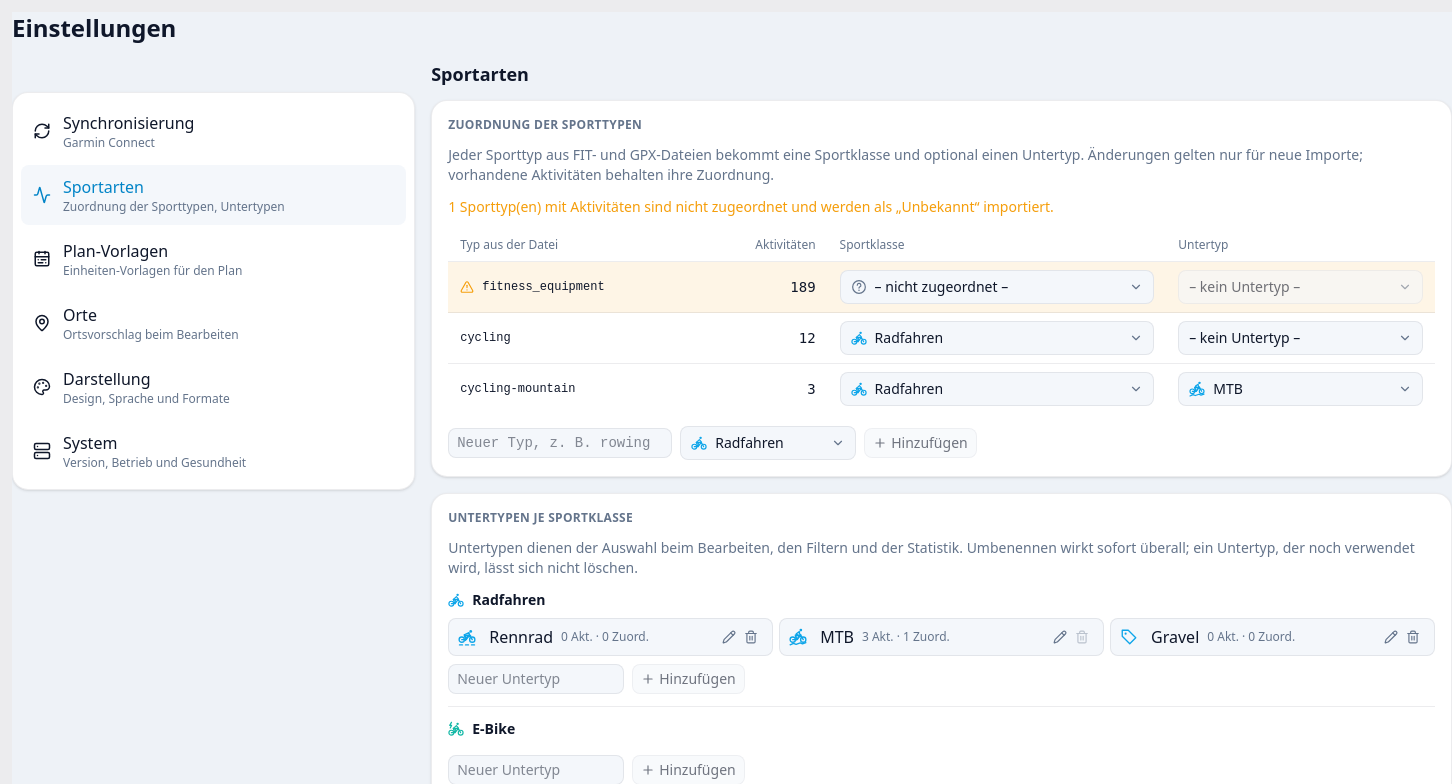
Scenario: Einstellungen → Sportarten › Katalog: anlegen, umbenennen, Löschen gesperrt bei Verwendung
Expected: the text "Rennrad" is shown, [489,625,553,649]
Expected: the text "Gravel" is shown, [1151,625,1199,649]
Type " Bahn " into the field named "Neuer Untertyp für Radfahren" at (536, 679), box [448,664,624,694]
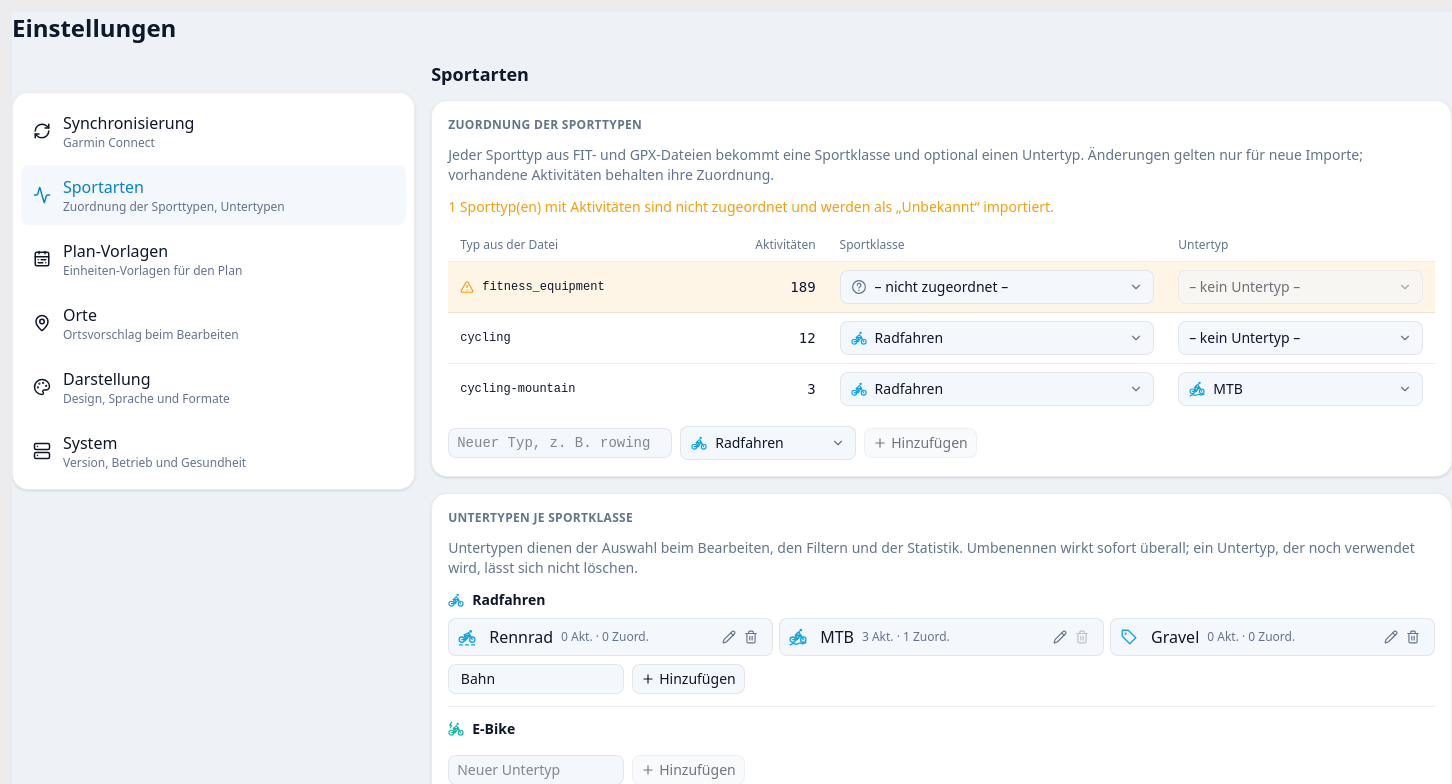
Click the button "Hinzufügen" below "Rennrad" at (688, 679), box [632,664,745,694]
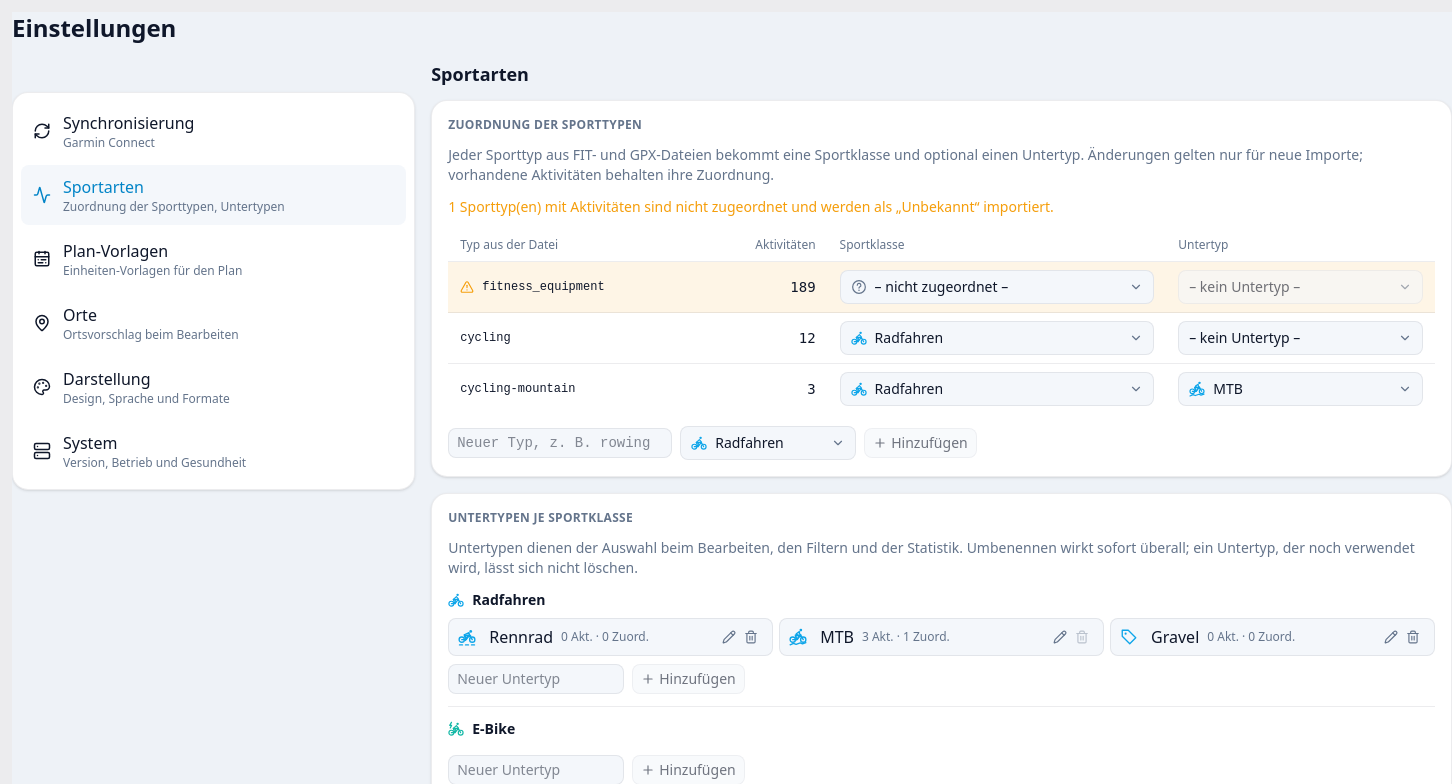
Click the button named "MTB umbenennen" at (1060, 637), box [1049,626,1071,648]
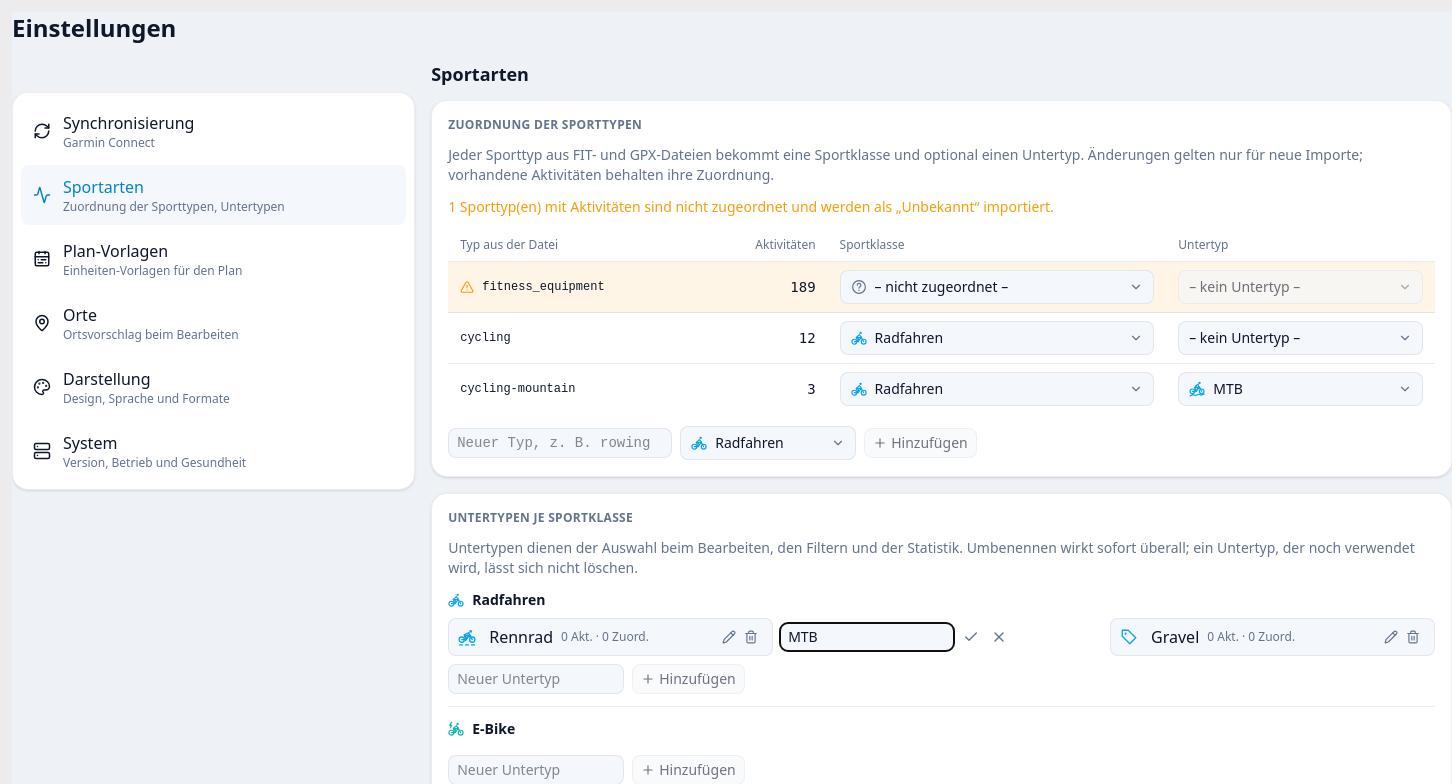
Now the field named "Neuer Name" holds "MTB"
Replace the text in the field named "Neuer Name" with "Mountainbike" at (867, 637), box [779,622,955,652]
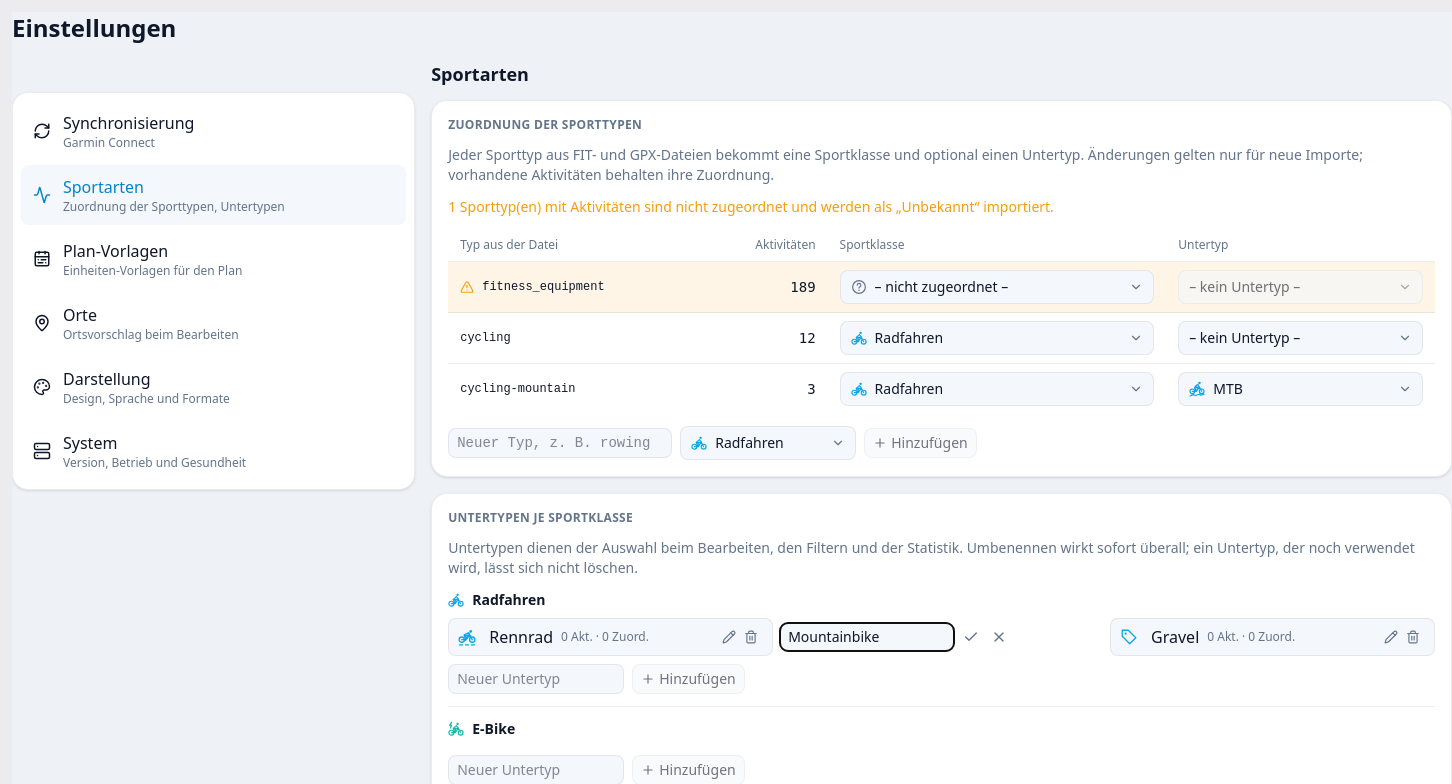
Click the button named "Speichern" at (971, 637), box [959,625,983,649]
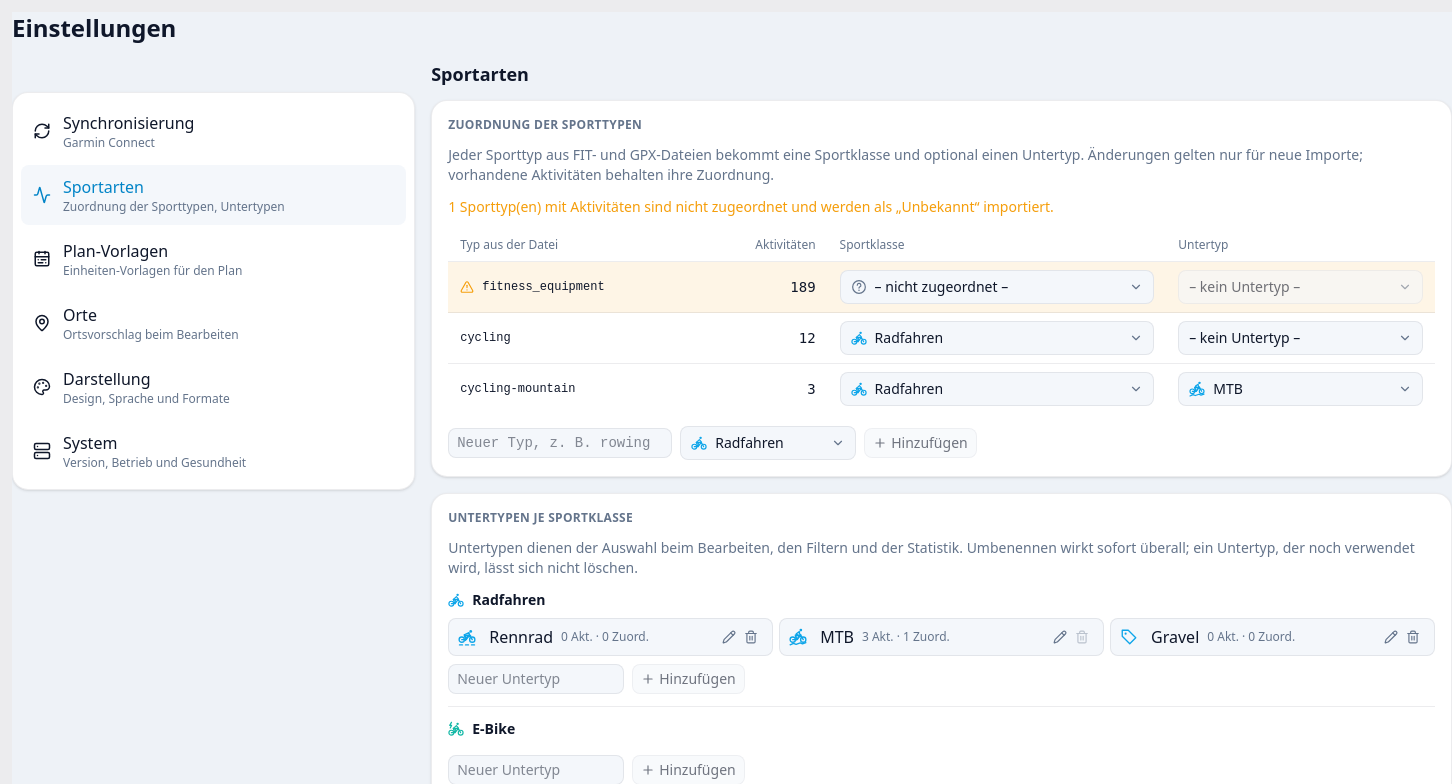
Click the button named "Gravel löschen" at (1413, 637), box [1402,626,1424,648]
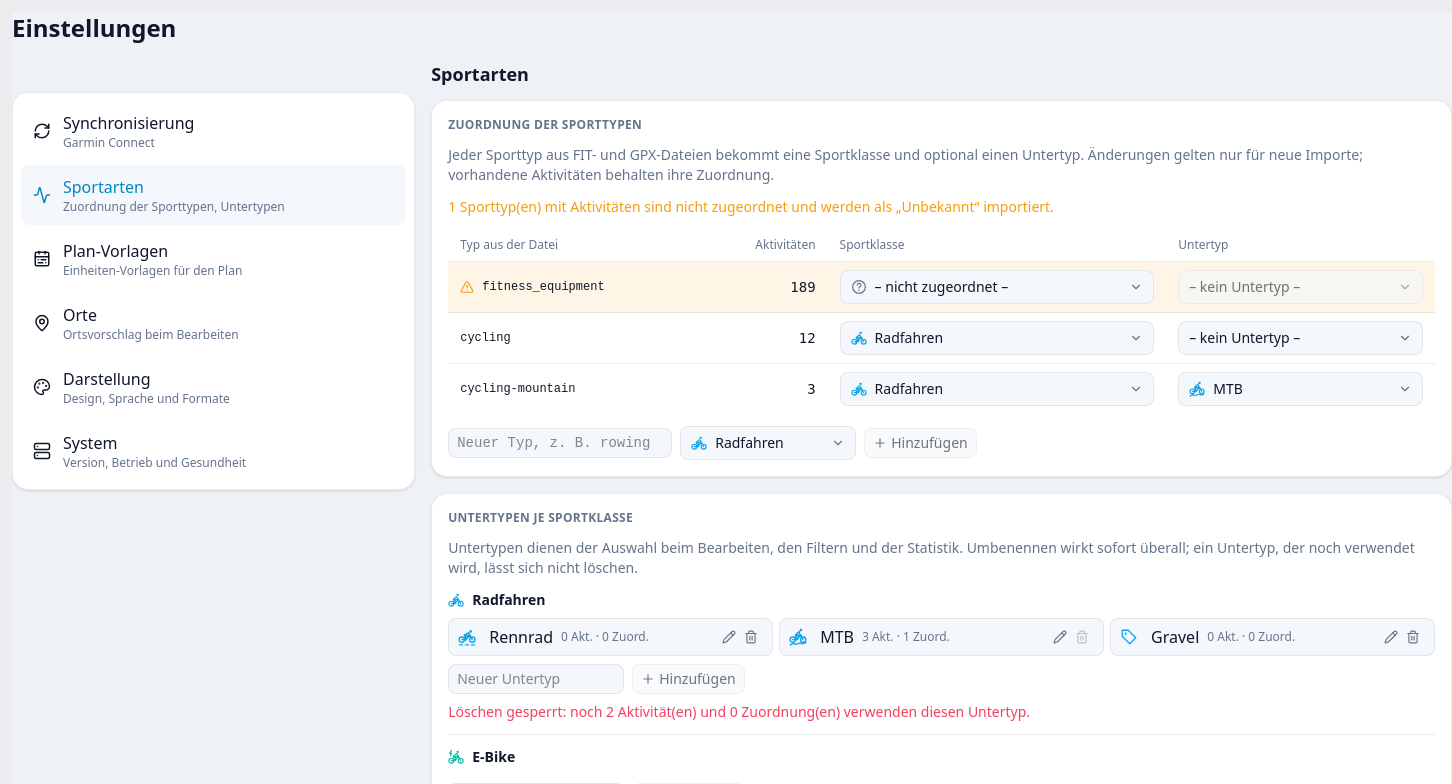
Now the text "Löschen gesperrt: noch 2 Aktivität(en) und 0 Zuordnung(en)" is shown, box [448,702,1030,721]
